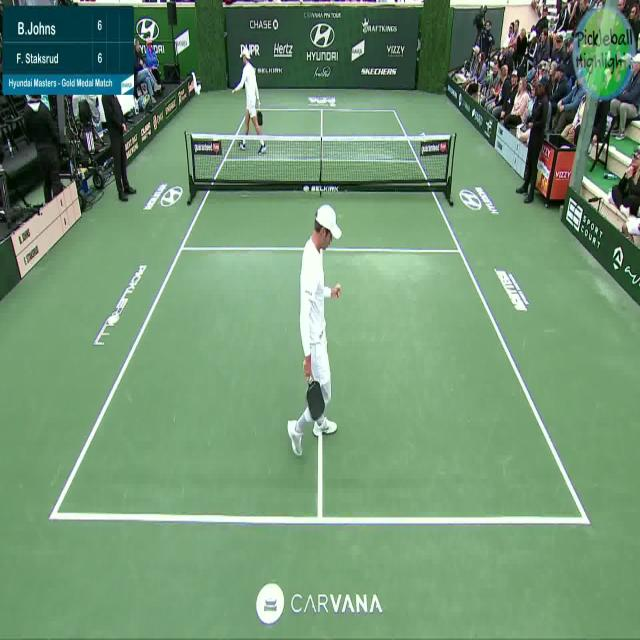Court: (50, 109, 589, 523)
